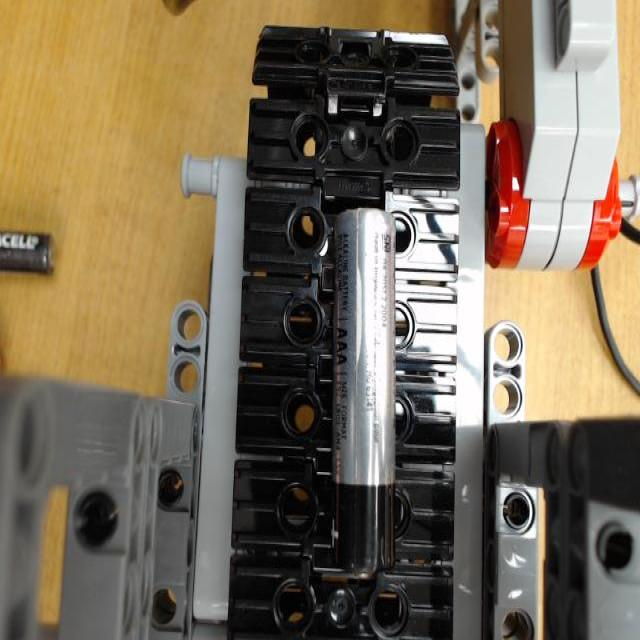AAA: (342, 204, 399, 575)
